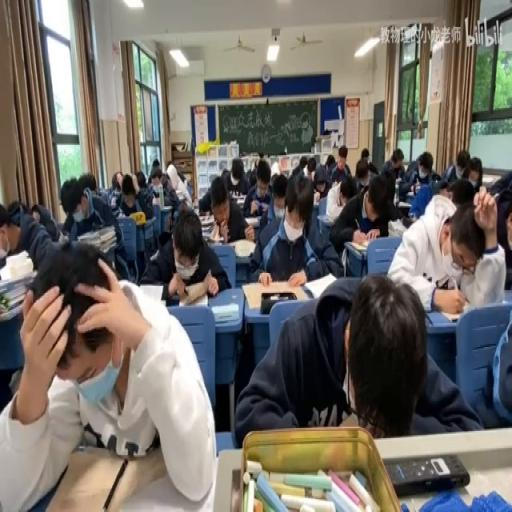calculator: (384, 452, 470, 494), (240, 278, 304, 308), (302, 270, 337, 299), (0, 270, 35, 294), (434, 298, 467, 322), (0, 294, 25, 320), (210, 302, 238, 322), (137, 282, 165, 302), (230, 238, 256, 256), (181, 290, 207, 307), (197, 212, 214, 237), (387, 216, 407, 236), (347, 239, 370, 252), (231, 194, 247, 206), (397, 200, 410, 214), (403, 188, 416, 202), (244, 214, 261, 224), (175, 189, 189, 201), (318, 213, 332, 225), (203, 233, 219, 243), (109, 194, 117, 208), (152, 196, 160, 206), (312, 196, 319, 206)
paper: (4, 238, 214, 508), (235, 270, 481, 445), (388, 180, 506, 312), (250, 172, 340, 283), (62, 175, 127, 276), (330, 169, 400, 259), (472, 290, 511, 427), (184, 175, 250, 253), (138, 229, 176, 286), (399, 148, 436, 200), (243, 158, 274, 219), (146, 160, 179, 214), (0, 199, 25, 255), (29, 199, 60, 240), (269, 173, 288, 222), (309, 162, 332, 202), (380, 148, 406, 182), (444, 178, 475, 206), (330, 142, 352, 181), (354, 155, 376, 192), (486, 171, 512, 202), (466, 155, 482, 189), (197, 183, 213, 215), (121, 174, 137, 204), (77, 171, 96, 196), (439, 162, 458, 184), (341, 182, 356, 205), (433, 179, 449, 196), (455, 158, 468, 178), (134, 171, 148, 189), (98, 186, 112, 204), (230, 165, 242, 185), (110, 170, 121, 190), (220, 166, 229, 190), (270, 159, 280, 178), (248, 168, 258, 185), (298, 154, 308, 170), (176, 170, 186, 184), (306, 158, 315, 173), (430, 169, 440, 182), (361, 148, 368, 161), (258, 152, 264, 161)
